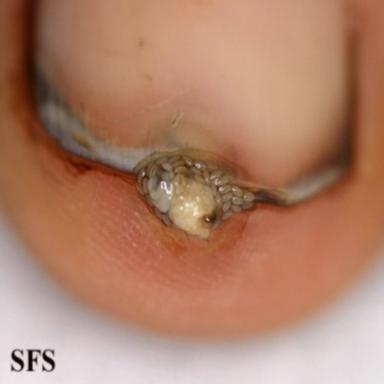Tungiasis: (133, 150, 261, 238)
